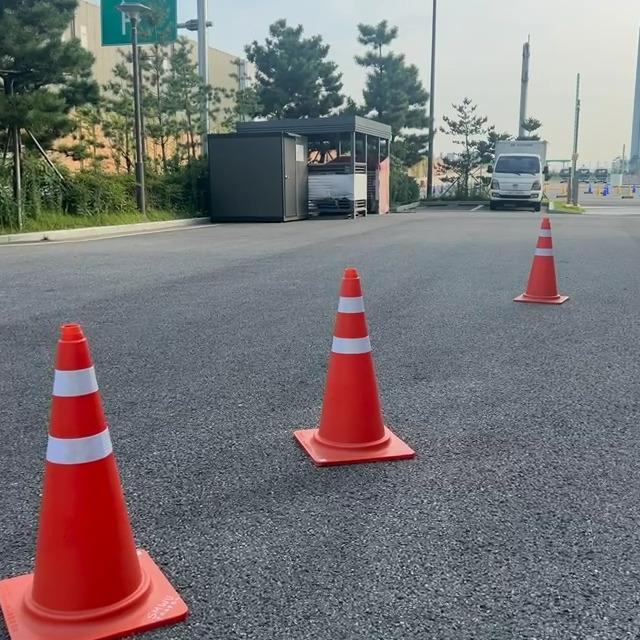fallen_object: (0, 294, 201, 640), (276, 256, 395, 460), (492, 213, 587, 296)
